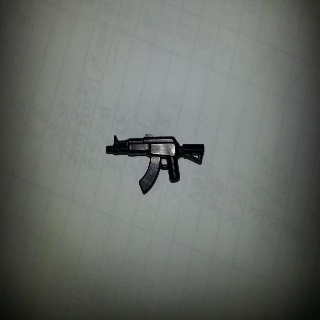rifle: (104, 132, 207, 195)
